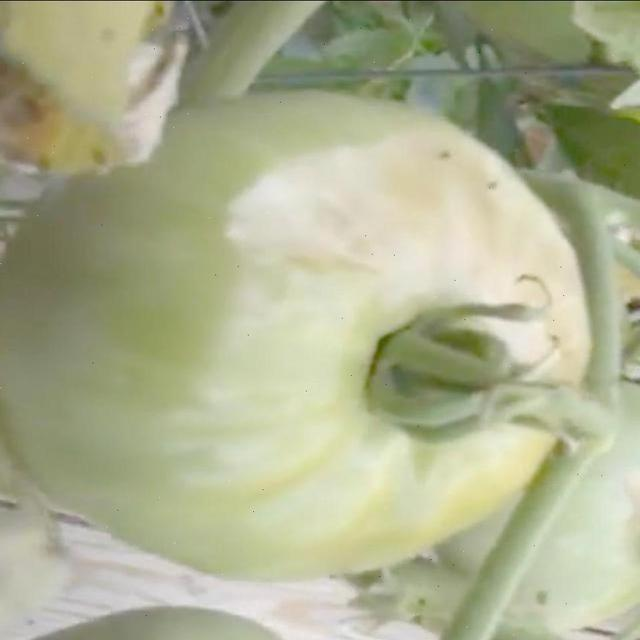Sunscald Fruit: (136, 72, 392, 257)
